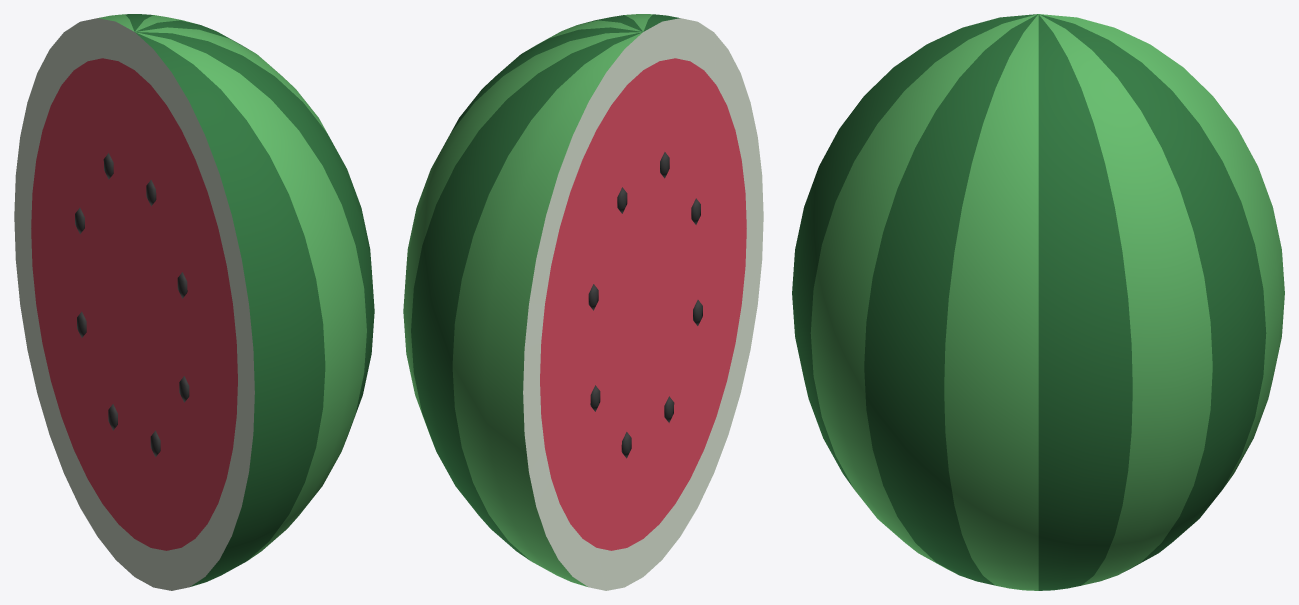
The model's file is Watermelon_Half_B.fbx.
3 views of the same model, side by side, from view 1: azimuth 30°, elevation 25°; view 2: azimuth 150°, elevation 25°; view 3: azimuth 270°, elevation 25° (orthographic). The views are drawn at different scales.
Visible parts, largest first — view 1: Watermelon_Half_B; view 2: Watermelon_Half_B; view 3: Watermelon_Half_B.
Part boxes in pixels (left/top/right/bottom): Watermelon_Half_B: left=14, top=14, right=374, bottom=590; Watermelon_Half_B: left=403, top=14, right=763, bottom=590; Watermelon_Half_B: left=792, top=14, right=1284, bottom=590.
Size of the model in its own units: 0.5338 by 1.3 by 1.04.
